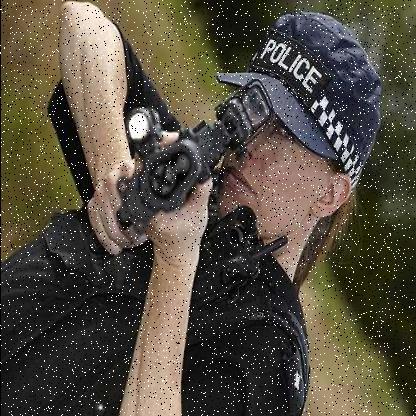rifle: (99, 39, 271, 250)
